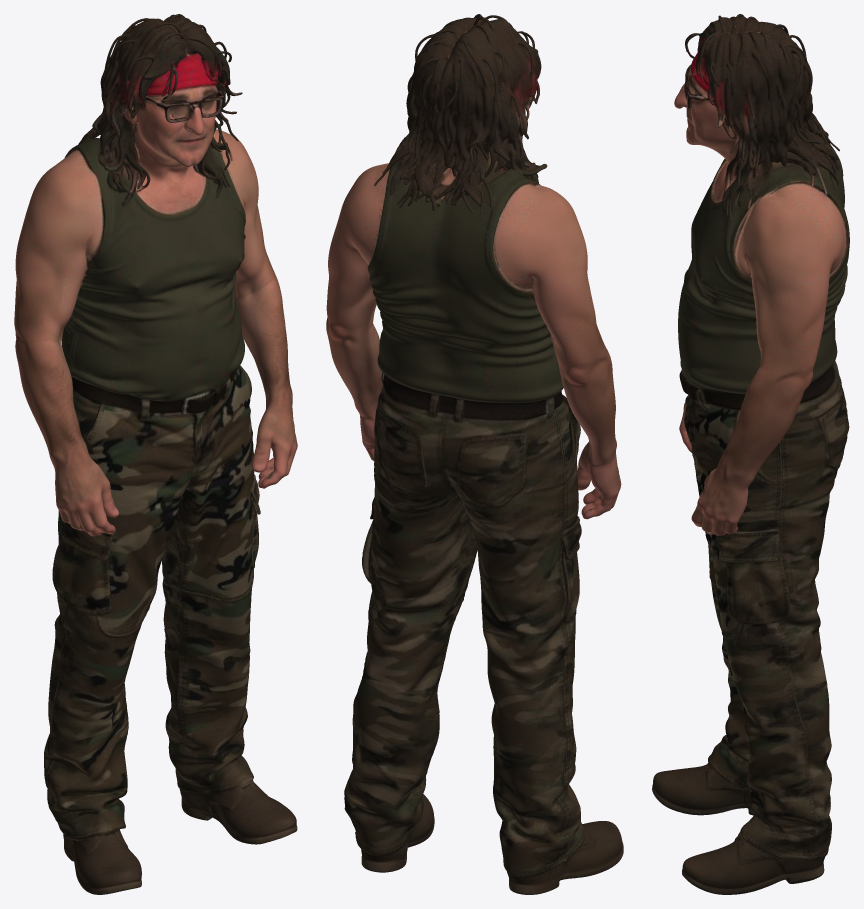
Rendered from Desert_Warrior_reduced_24MB.glb.
3 views of the same model, side by side, from view 1: azimuth 30°, elevation 25°; view 2: azimuth 150°, elevation 25°; view 3: azimuth 270°, elevation 25° (orthographic).
Visible parts, largest first — view 1: mesh_node; view 2: mesh_node; view 3: mesh_node.
Part boxes in pixels (left/top/right/bottom): mesh_node: left=14, top=14, right=297, bottom=894; mesh_node: left=326, top=14, right=623, bottom=894; mesh_node: left=652, top=14, right=849, bottom=894.
Bounding box in the file's own units: 0.6346 × 1.9 × 0.4123.
1 material, 1 textured.
